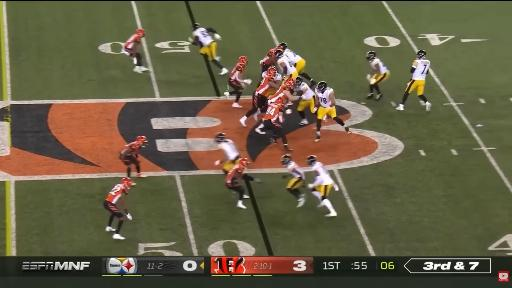Helmet: (307, 155, 317, 166), (136, 136, 147, 146), (281, 155, 291, 165), (122, 178, 132, 188), (317, 82, 327, 92), (285, 78, 295, 88), (215, 133, 226, 142), (239, 158, 248, 168), (267, 66, 276, 76), (366, 51, 376, 60), (417, 50, 426, 59), (274, 97, 283, 105), (136, 29, 145, 37), (274, 50, 283, 58), (136, 136, 147, 142), (295, 77, 302, 86), (239, 56, 247, 63), (279, 43, 287, 50), (268, 49, 275, 57), (193, 23, 199, 30), (276, 46, 284, 51)
Jersey: (312, 162, 334, 185), (219, 140, 238, 161), (106, 184, 127, 203), (412, 59, 430, 80), (193, 28, 213, 46), (286, 161, 305, 179), (315, 88, 333, 107), (264, 103, 282, 122), (226, 164, 243, 184), (256, 75, 273, 95), (294, 83, 314, 100), (278, 56, 296, 74), (268, 86, 287, 103), (284, 49, 302, 65), (230, 64, 244, 84), (370, 59, 387, 74), (124, 35, 141, 49), (261, 49, 275, 66), (121, 142, 139, 155), (274, 73, 282, 82)
Player: (239, 67, 280, 126), (396, 50, 431, 111), (315, 82, 351, 141), (189, 23, 228, 74), (307, 156, 338, 217), (104, 178, 134, 239), (226, 158, 259, 209), (279, 43, 316, 87), (261, 98, 291, 151), (224, 56, 251, 107), (281, 155, 305, 207), (366, 51, 389, 100), (120, 136, 147, 177), (294, 77, 317, 125), (124, 29, 148, 73), (215, 133, 239, 173), (267, 79, 294, 106), (275, 47, 298, 78), (268, 78, 295, 103), (260, 49, 276, 72)
